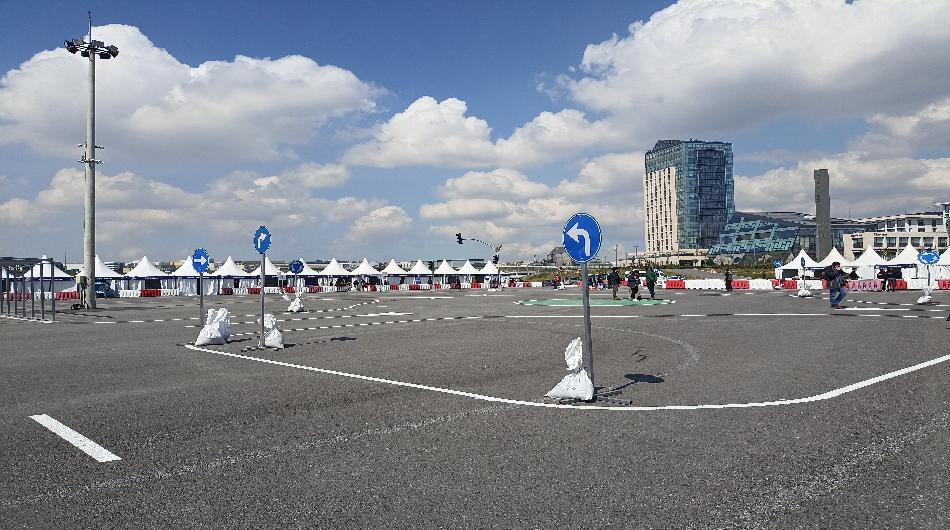saga_mecburi_1: (186, 242, 215, 271)
saga_mecburi_2: (250, 223, 271, 258)
sola_mecburi_2: (563, 210, 604, 262)
